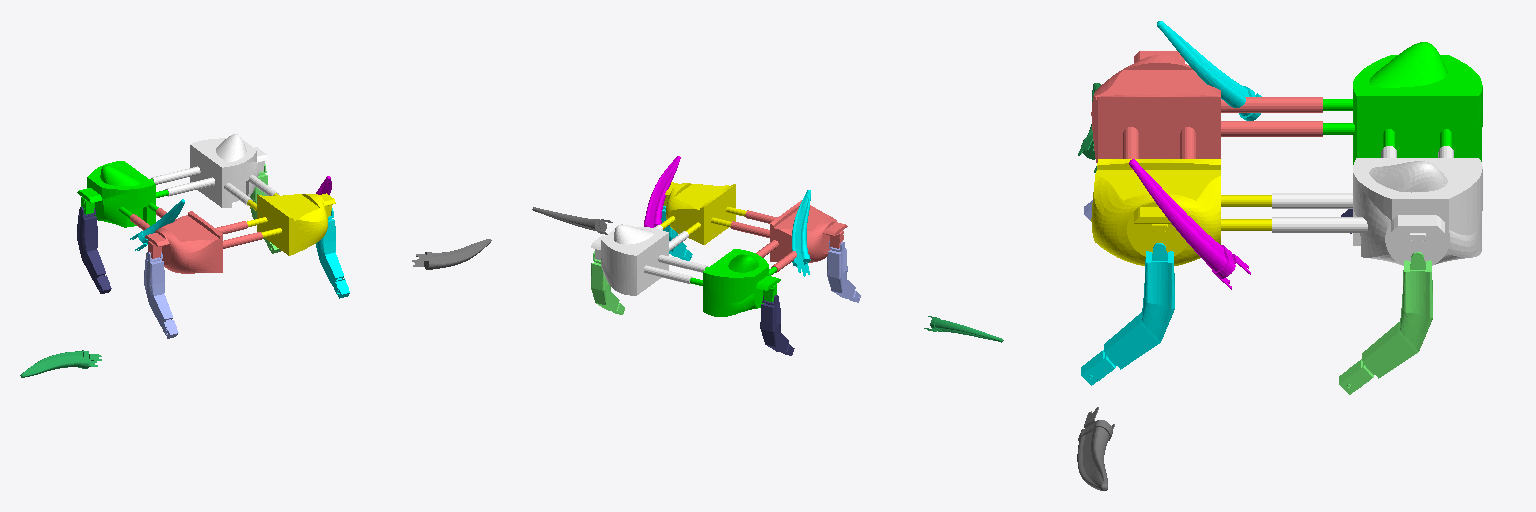
robot.urdf — Robot:
<?xml version="1.0" encoding="utf-8"?>
<!-- This URDF was automatically created by SolidWorks to URDF Exporter! Originally created by [author] ([email redacted]) 
     Commit Version: 1.5.1-0-g916b5db  Build Version: 1.5.7152.31018
     For more information, please see http://wiki.ros.org/sw_urdf_exporter -->
<robot
  name="Robot">
  <link
    name="NodeFL">
    <inertial>
      <origin
        xyz="-0.0836748064405956 0.00465990925768955 0.0466700664383101"
        rpy="0 0 0" />
      <mass
        value="700" />
      <inertia
        ixx="0.0132119094809342"
        ixy="-6.34977963617449E-05"
        ixz="-0.00039741871413613"
        iyy="0.0100947571324442"
        iyz="1.66953160834941E-06"
        izz="0.0161724454230983" />
    </inertial>
    <visual>
      <origin
        xyz="0 0 0"
        rpy="0 0 0" />
      <geometry>
        <mesh
          filename="package://STL/Render/NodeFL.STL" />
      </geometry>
      <material
        name="NodeFL">
        <color
          rgba="1 1 0 1" />
      </material>
    </visual>
    <collision>
      <origin
        xyz="0 0 0"
        rpy="0 0 0" />
      <geometry>
        <mesh
          filename="package://STL/Simple/NodeFL.STL" />
      </geometry>
    </collision>
  </link>
  <link
    name="LegFLtop">
    <inertial>
      <origin
        xyz="0.0479365866259974 -0.110594278605399 0.024739223301366"
        rpy="0 0 0" />
      <mass
        value="600" />
      <inertia
        ixx="0.00105829626356601"
        ixy="0.000197508830269276"
        ixz="4.99683690246438E-08"
        iyy="0.000202649306809769"
        iyz="1.97021149406695E-08"
        izz="0.00115710371753202" />
    </inertial>
    <visual>
      <origin
        xyz="0 0 0"
        rpy="0 0 0" />
      <geometry>
        <mesh
          filename="package://STL/Render/LegFLtop.STL" />
      </geometry>
      <material
        name="LegFLtop">
        <color
          rgba="0 1 1 1" />
      </material>
    </visual>
    <collision>
      <origin
        xyz="0 0 0"
        rpy="0 0 0" />
      <geometry>
        <mesh
          filename="package://STL/Simple/LegFLtop.STL" />
      </geometry>
    </collision>
  </link>
  <joint
    name="LegFLtopJoint"
    type="revolute">
    <origin
      xyz="0.000850617108481061 0.00338851971521293 0.050662338857125"
      rpy="1.5707963267949 0.59009949053307 1.5707963267949" />
    <parent
      link="NodeFL" />
    <child
      link="LegFLtop" />
    <axis
      xyz="0 0 -1" />
    <limit
      lower="-1.25"
      upper="1.25"
      effort="1.667"
      velocity="6.25" />
  </joint>
  <link
    name="LegFLbottom">
    <inertial>
      <origin
        xyz="-0.013449793566491 -0.0144997602303276 -0.105539244336569"
        rpy="0 0 0" />
      <mass
        value="600" />
      <inertia
        ixx="0.000560533025003748"
        ixy="-1.29531932384023E-10"
        ixz="-0.000166162571110261"
        iyy="0.000637599139002943"
        iyz="-6.58023031756816E-10"
        izz="9.66055067978187E-05" />
    </inertial>
    <visual>
      <origin
        xyz="0 0 0"
        rpy="0 0 0" />
      <geometry>
        <mesh
          filename="package://STL/Render/LegFLbottom.STL" />
      </geometry>
      <material
        name="LegFLbottom">
        <color
          rgba=".5 .5 .5 1" />
      </material>
    </visual>
    <collision>
      <origin
        xyz="0 0 0"
        rpy="0 0 0" />
      <geometry>
        <mesh
          filename="package://STL/Simple/LegFLbottom.STL" />
      </geometry>
    </collision>
  </link>
  <joint
    name="LegFLbottomJoint"
    type="revolute">
    <origin
      xyz="0.0349508441723456 -0.243845885053306 0.0392430236363057"
      rpy="1.5707963267949 0 2.8590275181257" />
    <parent
      link="LegFLtop" />
    <child
      link="LegFLbottom" />
    <axis
      xyz="0 1 0" />
    <limit
      lower="-1.25"
      upper="1.25"
      effort="1.667"
      velocity="6.25" />
  </joint>
  <link
    name="NodeFR">
    <inertial>
      <origin
        xyz="0.010521600501314 -0.228552568475627 -0.045203817320607"
        rpy="0 0 0" />
      <mass
        value="700" />
      <inertia
        ixx="0.0161817908998134"
        ixy="-0.000381192144237102"
        ixz="0.00103309606381777"
        iyy="0.0133122328446004"
        iyz="-0.000130071765131925"
        izz="0.0103718927511365" />
    </inertial>
    <visual>
      <origin
        xyz="0 0 0"
        rpy="0 0 0" />
      <geometry>
        <mesh
          filename="package://STL/Render/NodeFR.STL" />
      </geometry>
      <material
        name="NodeFR">
        <color
          rgba="1 .5 .5 1" />
      </material>
    </visual>
    <collision>
      <origin
        xyz="0 0 0"
        rpy="0 0 0" />
      <geometry>
        <mesh
          filename="package://STL/Simple/NodeFR.STL" />
      </geometry>
    </collision>
  </link>
  <joint
    name="NodeFRtoFL"
    type="prismatic">
    <origin
      xyz="-0.223136085546314 -0.0410663380019626 0.049377935941584"
      rpy="3.14159265358979 1.400226413165 1.5707963267949" />
    <parent
      link="NodeFL" />
    <child
      link="NodeFR" />
    <axis
      xyz="0 1 0" />
    <limit
      lower="-0.05"
      upper="0.05"
      effort="1.667"
      velocity="0" />
  </joint>
  <link
    name="LegFRtop">
    <inertial>
      <origin
        xyz="0.0536466988861759 -0.107766572888628 -0.0247736995495035"
        rpy="0 0 0" />
      <mass
        value="600" />
      <inertia
        ixx="0.00103348152937803"
        ixy="0.000244212923359473"
        ixz="-2.21190790256861E-08"
        iyy="0.00022746404099773"
        iyz="9.36103008979854E-08"
        izz="0.00115710371753201" />
    </inertial>
    <visual>
      <origin
        xyz="0 0 0"
        rpy="0 0 0" />
      <geometry>
        <mesh
          filename="package://STL/Render/LegFRtop.STL" />
      </geometry>
      <material
        name="LegFRtop">
        <color
          rgba=".7 0.75 1 1" />
      </material>
    </visual>
    <collision>
      <origin
        xyz="0 0 0"
        rpy="0 0 0" />
      <geometry>
        <mesh
          filename="package://STL/Simple/LegFRtop.STL" />
      </geometry>
    </collision>
  </link>
  <joint
    name="LegFRtopJoint"
    type="revolute">
    <origin
      xyz="0.00673229574135756 -0.314006976363694 -0.0466526058184806"
      rpy="-1.5707963267949 0.753964187321215 0" />
    <parent
      link="NodeFR" />
    <child
      link="LegFRtop" />
    <axis
      xyz="0 0 -1" />
    <limit
      lower="-1.25"
      upper="1.25"
      effort="1.667"
      velocity="6.25" />
  </joint>
  <link
    name="LegFRbottom">
    <inertial>
      <origin
        xyz="0.0134494427171024 -0.0145002397696692 -0.105539111374241"
        rpy="0 0 0" />
      <mass
        value="600" />
      <inertia
        ixx="0.000560533025016899"
        ixy="-1.29532003289119E-10"
        ixz="0.000166162571114011"
        iyy="0.000637599139016794"
        iyz="6.58022949448294E-10"
        izz="9.66055067984766E-05" />
    </inertial>
    <visual>
      <origin
        xyz="0 0 0"
        rpy="0 0 0" />
      <geometry>
        <mesh
          filename="package://STL/Render/LegFRbottom.STL" />
      </geometry>
      <material
        name="LegFRbottom">
        <color
          rgba=".2 .7 .4 1" />
      </material>
    </visual>
    <collision>
      <origin
        xyz="0 0 0"
        rpy="0 0 0" />
      <geometry>
        <mesh
          filename="package://STL/Simple/LegFRbottom.STL" />
      </geometry>
    </collision>
  </link>
  <joint
    name="LegFRbottomJoint"
    type="revolute">
    <origin
      xyz="0.0489781894022524 -0.237981675768681 -0.0392430236363144"
      rpy="-1.57079632679487 0 -0.22640240015338" />
    <parent
      link="LegFRtop" />
    <child
      link="LegFRbottom" />
    <axis
      xyz="0 1 0" />
    <limit
      lower="-1.25"
      upper="1.25"
      effort="1.667"
      velocity="6.25" />
  </joint>
  <link
    name="NodeBR">
    <inertial>
      <origin
        xyz="0.0136051169075348 -0.196325604097942 -0.0379004729644428"
        rpy="0 0 0" />
      <mass
        value="700" />
      <inertia
        ixx="0.015744225302365"
        ixy="0.000315311306391687"
        ixz="0.000885433530736302"
        iyy="0.0118800574004137"
        iyz="1.04105938570227E-06"
        izz="0.0151614335866612" />
    </inertial>
    <visual>
      <origin
        xyz="0 0 0"
        rpy="0 0 0" />
      <geometry>
        <mesh
          filename="package://STL/Render/NodeBR.STL" />
      </geometry>
      <material
        name="NodeBR">
        <color
          rgba="0 1 0 1" />
      </material>
    </visual>
    <collision>
      <origin
        xyz="0 0 0"
        rpy="0 0 0" />
      <geometry>
        <mesh
          filename="package://STL/Simple/NodeBR.STL" />
      </geometry>
    </collision>
  </link>
  <joint
    name="NodeBRtoFR"
    type="prismatic">
    <origin
      xyz="0.0425516484371528 -0.2667 -0.247043441975824"
      rpy="1.50696525699484 -0.158283867014591 0.385246744254906" />
    <parent
      link="NodeFR" />
    <child
      link="NodeBR" />
    <axis
      xyz="0 1 0" />
    <limit
      lower="-0.05"
      upper="0.05"
      effort="1.667"
      velocity="0" />
  </joint>
  <link
    name="LegBRtop">
    <inertial>
      <origin
        xyz="0.0243718308958003 -0.11788815204392 -0.0247736995494828"
        rpy="0 0 0" />
      <mass
        value="600" />
      <inertia
        ixx="0.00110150621806756"
        ixy="1.35463994884061E-05"
        ixz="2.49981925894251E-09"
        iyy="0.000159439352308217"
        iyz="9.6155566631929E-08"
        izz="0.00115710371753203" />
    </inertial>
    <visual>
      <origin
        xyz="0 0 0"
        rpy="0 0 0" />
      <geometry>
        <mesh
          filename="package://STL/Render/LegBRtop.STL" />
      </geometry>
      <material
        name="LegBRtop">
        <color
          rgba=".3 .3 .5 1" />
      </material>
    </visual>
    <collision>
      <origin
        xyz="0 0 0"
        rpy="0 0 0" />
      <geometry>
        <mesh
          filename="package://STL/Simple/LegBRtop.STL" />
      </geometry>
    </collision>
  </link>
  <joint
    name="LegBRtopJoint"
    type="revolute">
    <origin
      xyz="-0.00429840728729508 -0.195893220384569 0.0492268311937279"
      rpy="-2.78731505033292 -0.140945170035096 -1.20783082058472" />
    <parent
      link="NodeBR" />
    <child
      link="LegBRtop" />
    <axis
      xyz="0 0 -1" />
    <limit
      lower="-1.25"
      upper="1.25"
      effort="1.667"
      velocity="6.25" />
  </joint>
  <link
    name="LegBRbottom">
    <inertial>
      <origin
        xyz="0.0134494427164206 -0.0145002397695219 -0.105539111373987"
        rpy="0 0 0" />
      <mass
        value="600" />
      <inertia
        ixx="0.000560533025027932"
        ixy="-1.29533646523328E-10"
        ixz="0.000166162571106983"
        iyy="0.000637599139019265"
        iyz="6.5802513350724E-10"
        izz="9.66055067895226E-05" />
    </inertial>
    <visual>
      <origin
        xyz="0 0 0"
        rpy="0 0 0" />
      <geometry>
        <mesh
          filename="package://STL/Render/LegBRbottom.STL" />
      </geometry>
      <material
        name="LegBRbottom">
        <color
          rgba="0 1 1 1" />
      </material>
    </visual>
    <collision>
      <origin
        xyz="0 0 0"
        rpy="0 0 0" />
      <geometry>
        <mesh
          filename="package://STL/Simple/LegBRbottom.STL" />
      </geometry>
    </collision>
  </link>
  <joint
    name="LegBRbottomJoint"
    type="revolute">
    <origin
      xyz="-0.0133692926627684 -0.242601325331272 -0.0392430236362956"
      rpy="-1.57079632679485 0 -0.48442729599235" />
    <parent
      link="LegBRtop" />
    <child
      link="LegBRbottom" />
    <axis
      xyz="0 1 0" />
    <limit
      lower="-1.25"
      upper="1.25"
      effort="1.667"
      velocity="6.25" />
  </joint>
  <link
    name="NodeBL">
    <inertial>
      <origin
        xyz="0.219606911891838 0.00472643952065368 0.000157701594268145"
        rpy="0 0 0" />
      <mass
        value="700" />
      <inertia
        ixx="0.0147317916261062"
        ixy="-0.00044061093244155"
        ixz="-0.000116047542948837"
        iyy="0.0164631553798021"
        iyz="-0.000293173259433457"
        izz="0.011980425019295" />
    </inertial>
    <visual>
      <origin
        xyz="0 0 0"
        rpy="0 0 0" />
      <geometry>
        <mesh
          filename="package://STL/Render/NodeBL.STL" />
      </geometry>
      <material
        name="NodeBL">
        <color
          rgba="1 1 1 1" />
      </material>
    </visual>
    <collision>
      <origin
        xyz="0 0 0"
        rpy="0 0 0" />
      <geometry>
        <mesh
          filename="package://STL/Simple/NodeBL.STL" />
      </geometry>
    </collision>
  </link>
  <joint
    name="NodeBLtoFL"
    type="prismatic">
    <origin
      xyz="-0.306406359255212 0.40560642659738 0.046075935941584"
      rpy="1.5707963267949 0 0" />
    <parent
      link="NodeFL" />
    <child
      link="NodeBL" />
    <axis
      xyz="0 0 1" />
    <limit
      lower="-.05"
      upper=".05"
      effort="1.667"
      velocity="0" />
  </joint>
  <link
    name="LegBLtop">
    <inertial>
      <origin
        xyz="0.043846846776924 -0.112278514531147 0.0247392233013661"
        rpy="0 0 0" />
      <mass
        value="600" />
      <inertia
        ixx="0.00107162716036465"
        ixy="0.000165606412763194"
        ixz="5.06575574907494E-08"
        iyy="0.000189318410011129"
        iyz="1.78556183103074E-08"
        izz="0.00115710371753202" />
    </inertial>
    <visual>
      <origin
        xyz="0 0 0"
        rpy="0 0 0" />
      <geometry>
        <mesh
          filename="package://STL/Render/LegBLtop.STL" />
      </geometry>
      <material
        name="LegBLtop">
        <color
          rgba=".5 1 .5 1" />
      </material>
    </visual>
    <collision>
      <origin
        xyz="0 0 0"
        rpy="0 0 0" />
      <geometry>
        <mesh
          filename="package://STL/Simple/LegBLtop.STL" />
      </geometry>
    </collision>
  </link>
  <joint
    name="LegBLtopJoint"
    type="revolute">
    <origin
      xyz="0.307656976363671 -0.0109741059783897 9.82624883940075E-05"
      rpy="-1.5707963267949 1.01739293400464 -1.5707963267949" />
    <parent
      link="NodeBL" />
    <child
      link="LegBLtop" />
    <axis
      xyz="0 0 -1" />
    <limit
      lower="-1.25"
      upper="1.25"
      effort="1.667"
      velocity="6.25" />
  </joint>
  <link
    name="LegBLbottom">
    <inertial>
      <origin
        xyz="0.0134497935633143 0.014499760230885 -0.105539244332719"
        rpy="0 0 0" />
      <mass
        value="600" />
      <inertia
        ixx="0.000560533024965042"
        ixy="-1.29537928082136E-10"
        ixz="0.000166162571061984"
        iyy="0.000637599138928749"
        iyz="6.58032675843004E-10"
        izz="9.66055067608385E-05" />
    </inertial>
    <visual>
      <origin
        xyz="0 0 0"
        rpy="0 0 0" />
      <geometry>
        <mesh
          filename="package://STL/Render/LegBLbottom.STL" />
      </geometry>
      <material
        name="LegBLbottom">
        <color
          rgba="1 0 1 1" />
      </material>
    </visual>
    <collision>
      <origin
        xyz="0 0 0"
        rpy="0 0 0" />
      <geometry>
        <mesh
          filename="package://STL/Simple/LegBLbottom.STL" />
      </geometry>
    </collision>
  </link>
  <joint
    name="LegBLbottomJoint"
    type="revolute">
    <origin
      xyz="0.0259811300575554 -0.244963993367846 0.0392430236363058"
      rpy="-1.5707963267949 0 -0.319261233206899" />
    <parent
      link="LegBLtop" />
    <child
      link="LegBLbottom" />
    <axis
      xyz="0 -1 0" />
    <limit
      lower="-0.05"
      upper="0.05"
      effort="1.667"
      velocity="6.25" />
  </joint>
</robot>

--- What the picture shows (computed from the rendered views, not written in the file) ---
3 views of the same robot in one strip: view 1: azimuth 30°, elevation 25°; view 2: azimuth 150°, elevation 25°; view 3: azimuth 270°, elevation 25° (orthographic).
Robot: Robot — 12 links, 11 joints (8 revolute, 3 prismatic); root link NodeFL; default pose: every joint at zero.
Links seen in each view (by area): view 1: NodeBL, NodeFR, NodeBR, NodeFL, LegFRtop, LegBRtop, LegFLtop, LegFRbottom, LegFLbottom, LegBRbottom; view 2: NodeBL, NodeBR, NodeFL, NodeFR, LegBRtop, LegFRtop, LegBRbottom, LegBLbottom, LegBLtop, LegFLbottom, LegFRbottom; view 3: NodeBL, NodeFR, NodeBR, NodeFL, LegBLtop, LegFLtop, LegBLbottom, LegBRbottom, LegFLbottom.
Boxes of the visible links, <box> form: NodeBL: <box>151,134,278,207</box>; NodeFR: <box>130,208,262,273</box>; NodeBR: <box>77,161,168,227</box>; NodeFL: <box>247,193,335,255</box>; LegFRtop: <box>144,252,178,338</box>; LegBRtop: <box>77,207,111,293</box>; LegFLtop: <box>316,208,349,298</box>; LegFRbottom: <box>20,350,101,377</box>; LegFLbottom: <box>412,239,491,269</box>; LegBRbottom: <box>130,199,184,250</box>; NodeBL: <box>591,224,707,295</box>; NodeBR: <box>690,249,780,316</box>; NodeFL: <box>660,182,746,244</box>; NodeFR: <box>730,200,847,272</box>; LegBRtop: <box>760,295,794,355</box>; LegFRtop: <box>827,241,860,302</box>; LegBRbottom: <box>792,190,810,276</box>; LegBLbottom: <box>644,156,680,227</box>; LegBLtop: <box>591,251,624,314</box>; LegFLbottom: <box>532,207,612,234</box>; LegFRbottom: <box>924,316,1003,342</box>; NodeBL: <box>1272,146,1482,265</box>; NodeFR: <box>1091,51,1322,162</box>; NodeBR: <box>1323,42,1482,164</box>; NodeFL: <box>1091,159,1271,265</box>; LegBLtop: <box>1339,252,1432,394</box>; LegFLtop: <box>1081,243,1174,385</box>; LegBLbottom: <box>1129,159,1250,289</box>; LegBRbottom: <box>1157,21,1261,120</box>; LegFLbottom: <box>1077,407,1114,490</box>.
Size in the robot's own frame: 1.62 by 0.6315 by 0.4274 metres.
12 mesh visuals loaded from 12 distinct referenced files (12 binary STL).